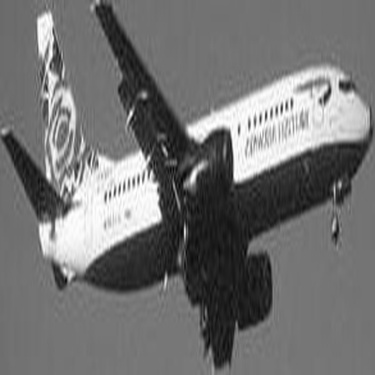airplane: (2, 3, 371, 372)
